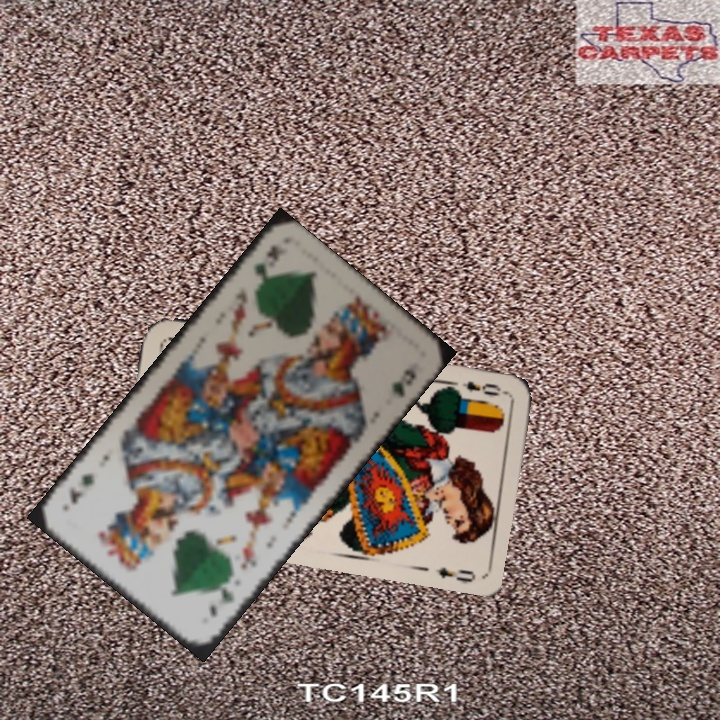EO: (458, 377, 510, 399)
GK: (251, 240, 287, 283), (205, 583, 237, 620)
